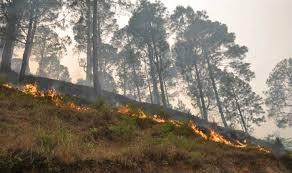fire: (11, 78, 94, 112), (189, 118, 248, 147)
